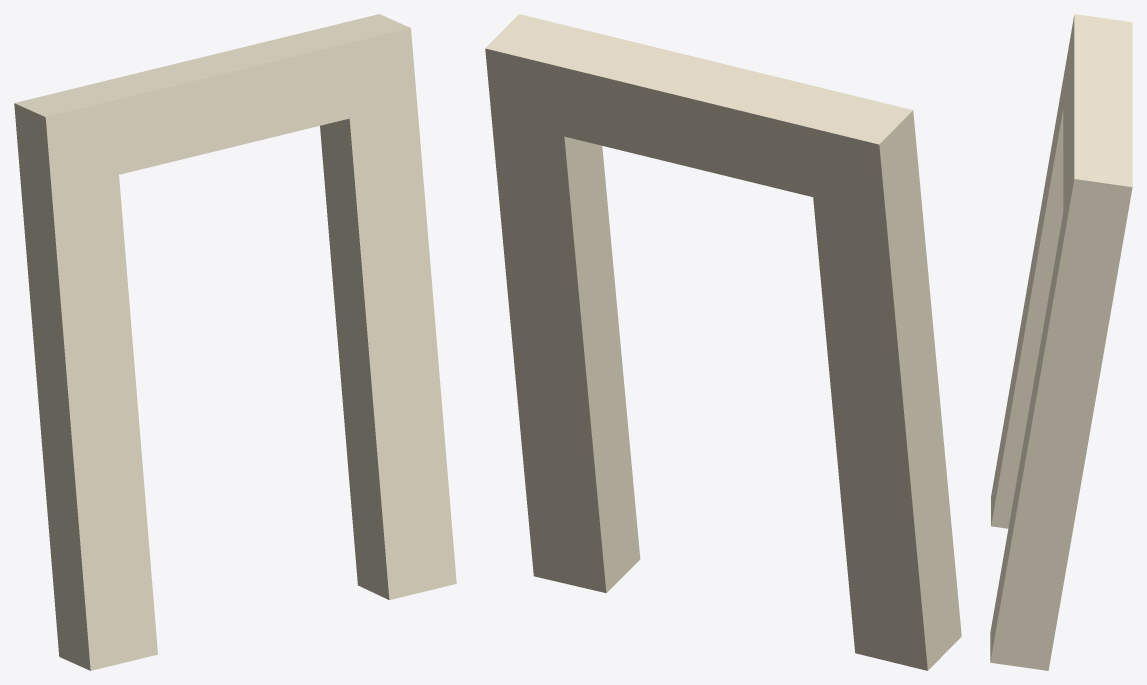
File: original-31.obj
3 renders of one model, left to right at view 1: azimuth 30°, elevation 25°; view 2: azimuth 150°, elevation 25°; view 3: azimuth 270°, elevation 25°, orthographic. The views are drawn at different scales.
Parts seen in each view (by area): view 1: Component_1_28/Component_1/mesh10/mesh10-geometry#mesh10-geometr; view 2: Component_1_28/Component_1/mesh10/mesh10-geometry#mesh10-geometr; view 3: Component_1_28/Component_1/mesh10/mesh10-geometry#mesh10-geometr.
Part boxes in pixels (x1=…): Component_1_28/Component_1/mesh10/mesh10-geometry#mesh10-geometr: x1=14, y1=14, x2=456, y2=670; Component_1_28/Component_1/mesh10/mesh10-geometry#mesh10-geometr: x1=485, y1=14, x2=961, y2=670; Component_1_28/Component_1/mesh10/mesh10-geometry#mesh10-geometr: x1=990, y1=14, x2=1132, y2=670.
Bounding box in the file's own units: 0.0793 × 0.1102 × 0.0289.
